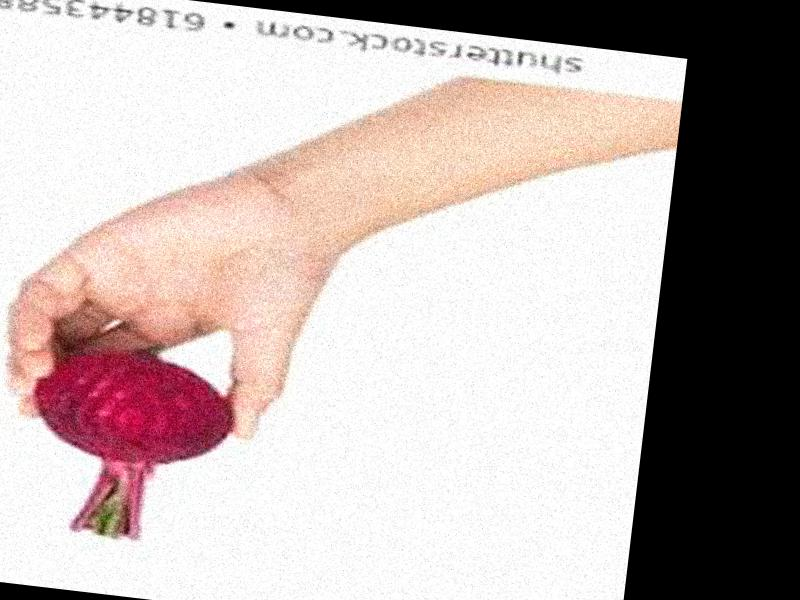Beet: (14, 345, 237, 550)
